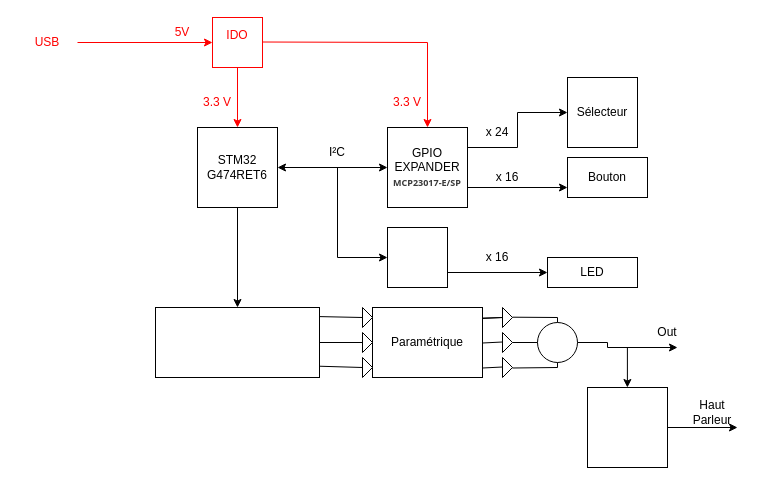
This 764x485 diagram has some shape labels left out. Here are the shapes that lost their labels. From the top down, the centre of each, then its label:
the point at 417,257: LED Driver
the point at 237,342: Puce son MOS 6581
the point at 627,427: Amplificateur
